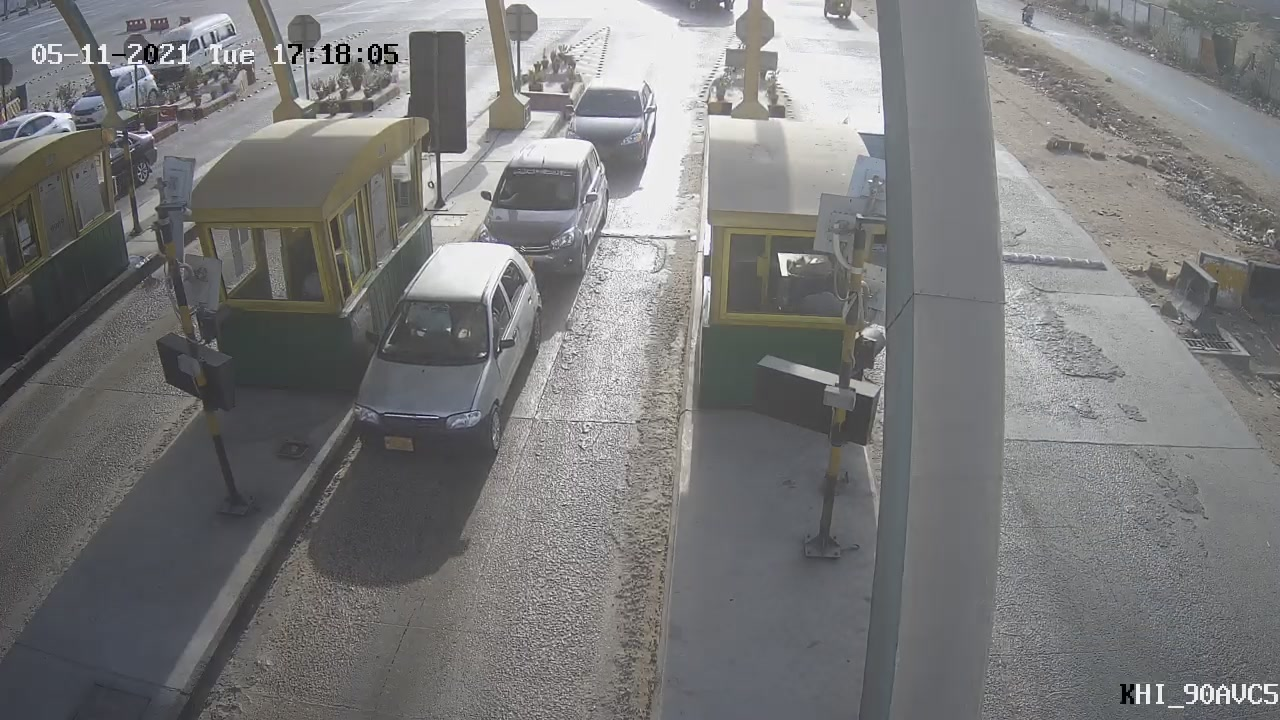F1: (330, 231, 563, 483), (455, 131, 620, 292)
